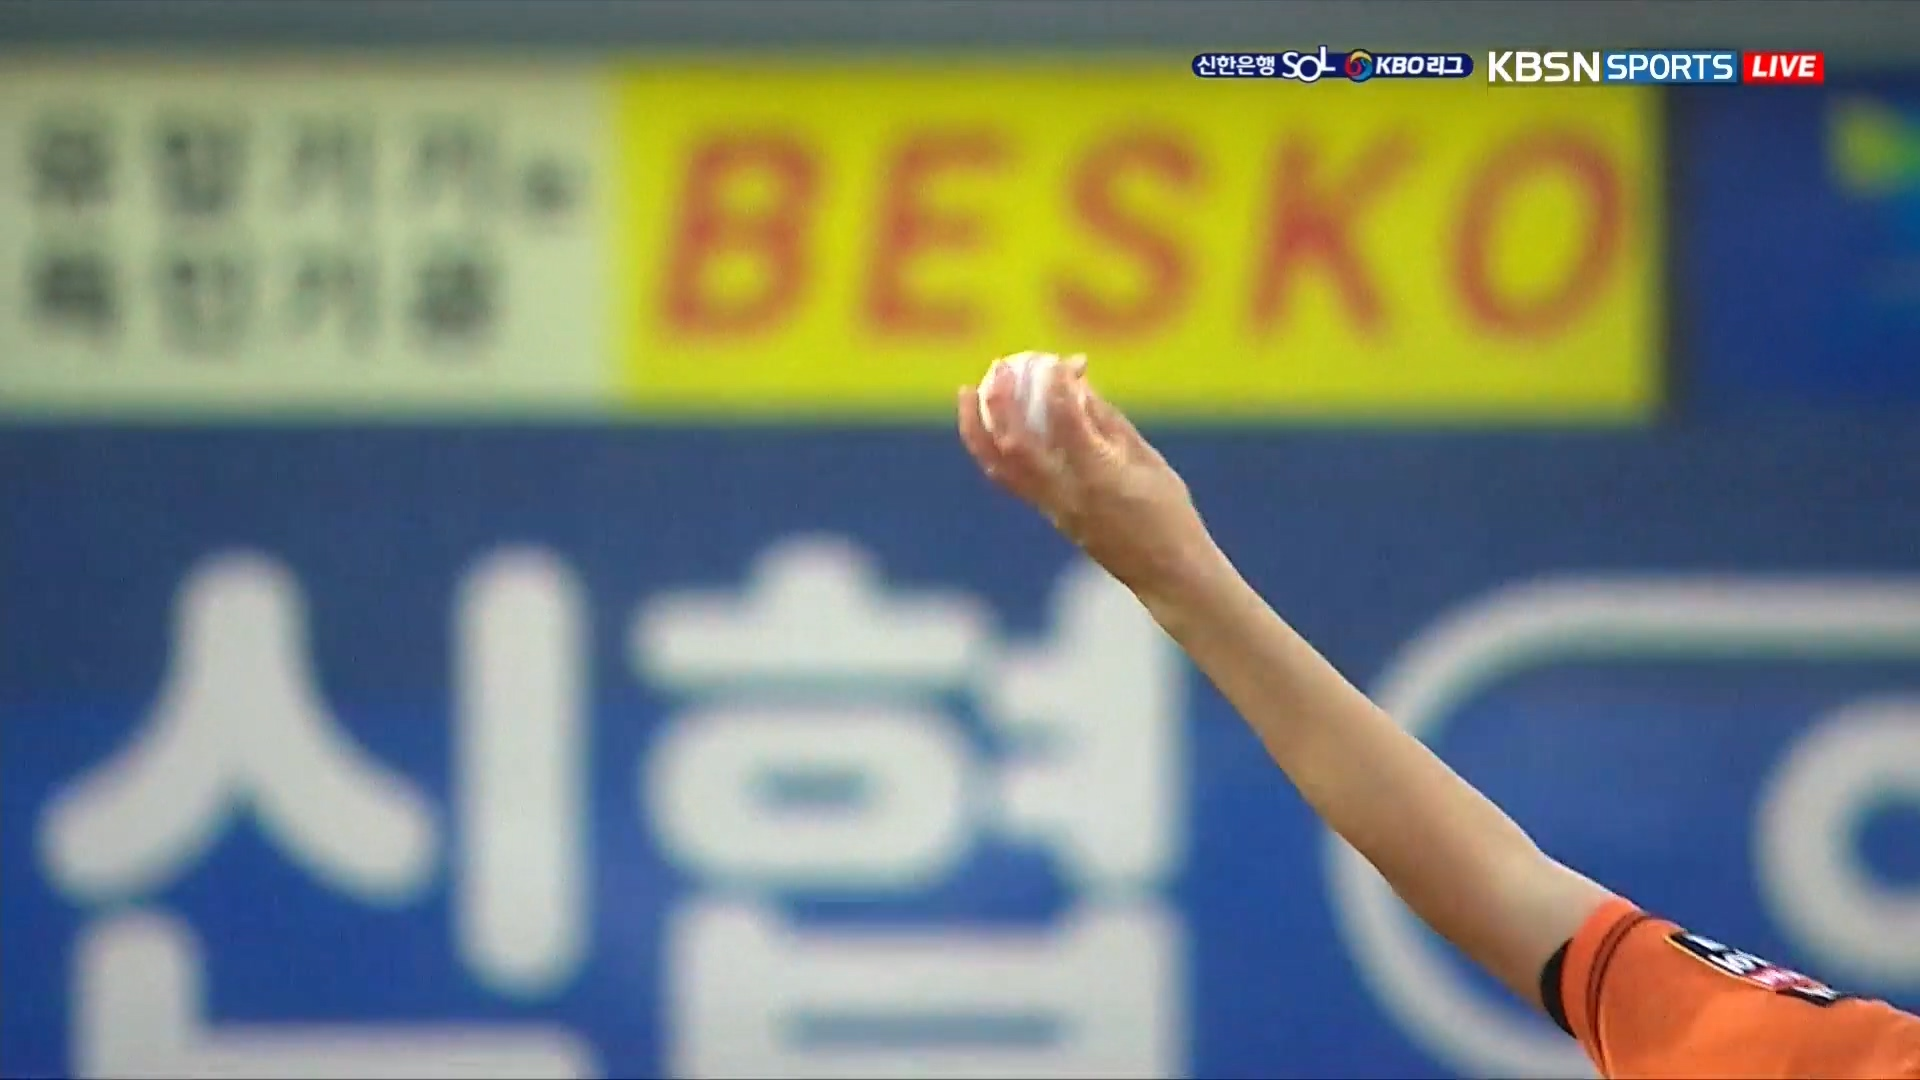zoomin_hand: (916, 326, 1515, 920)
